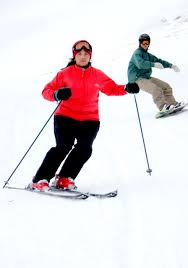skier: (9, 26, 145, 216)
